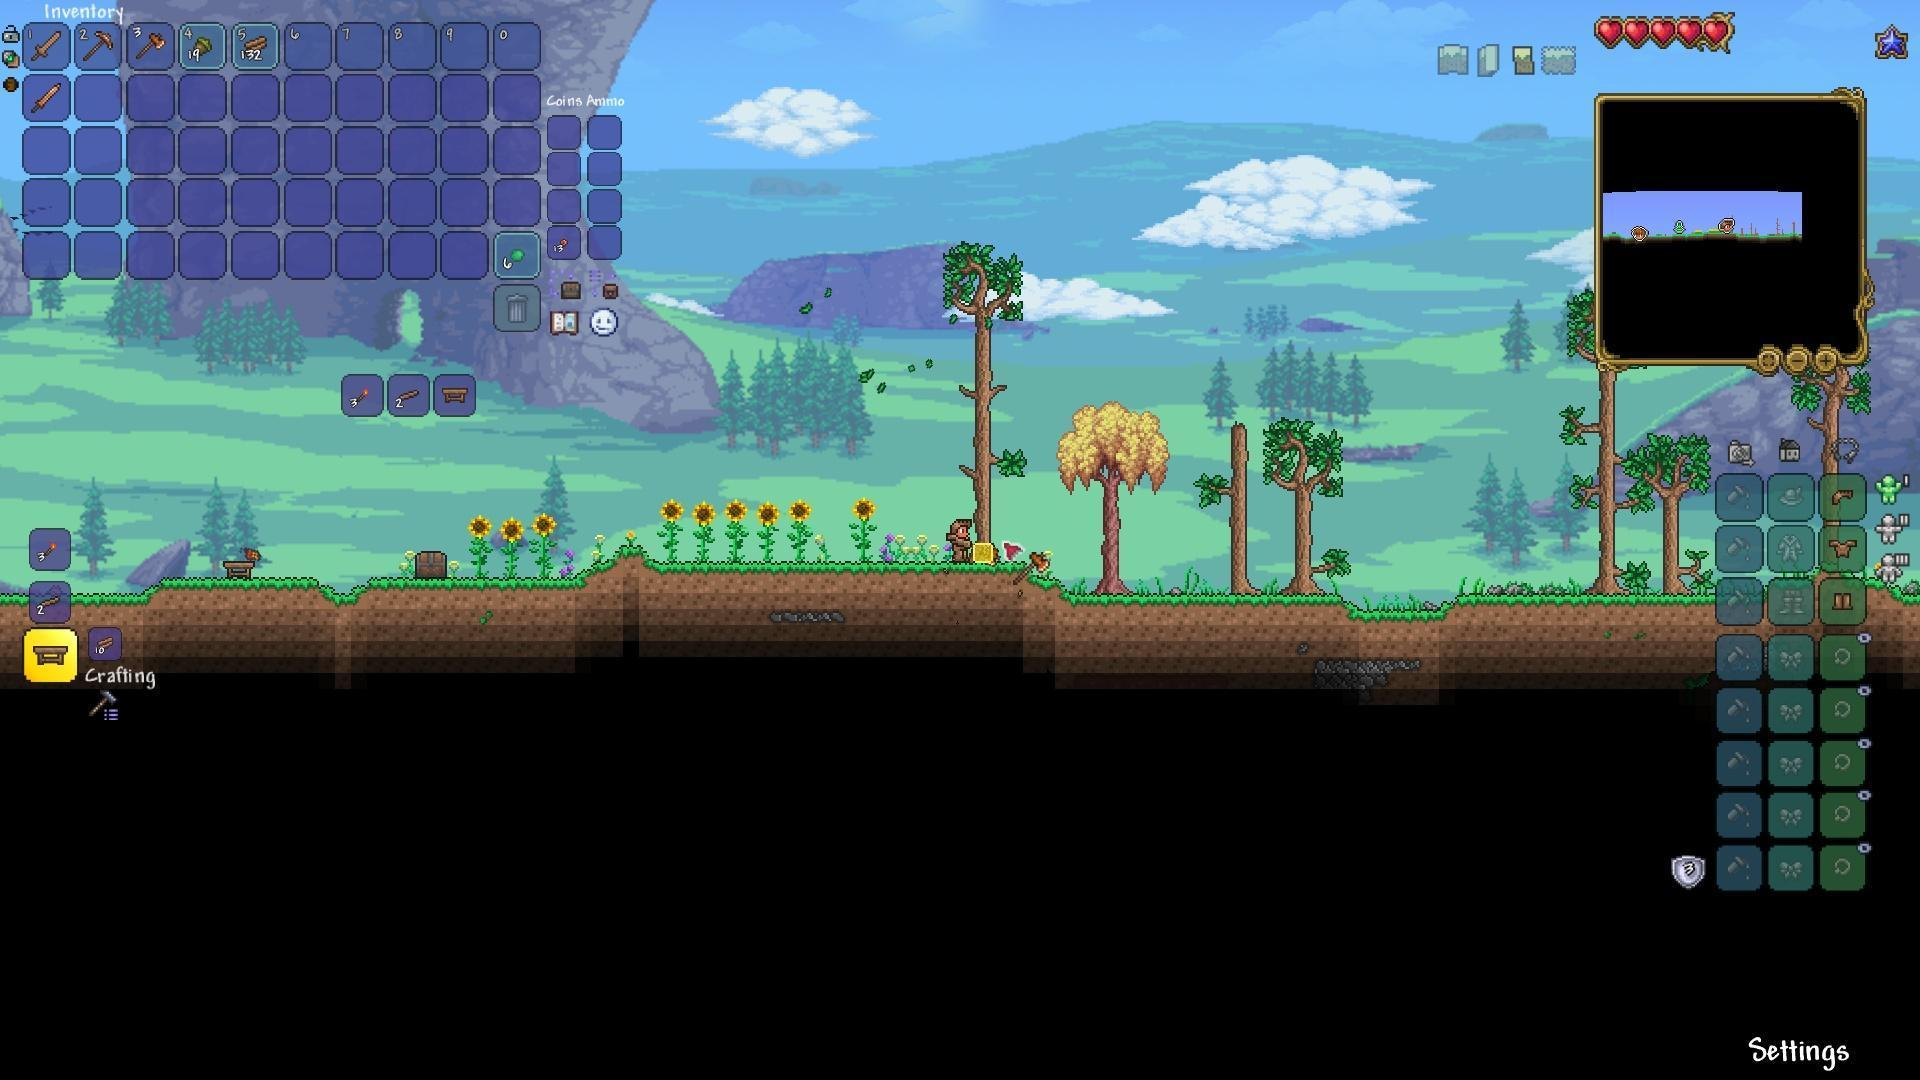breastplate: (1832, 538, 1859, 559)
helmet: (1830, 487, 1859, 512)
legs: (1832, 588, 1857, 615)
wood: (239, 28, 270, 58), (88, 629, 120, 659)
workbench: (222, 555, 258, 580), (436, 382, 473, 407), (36, 645, 65, 669)
